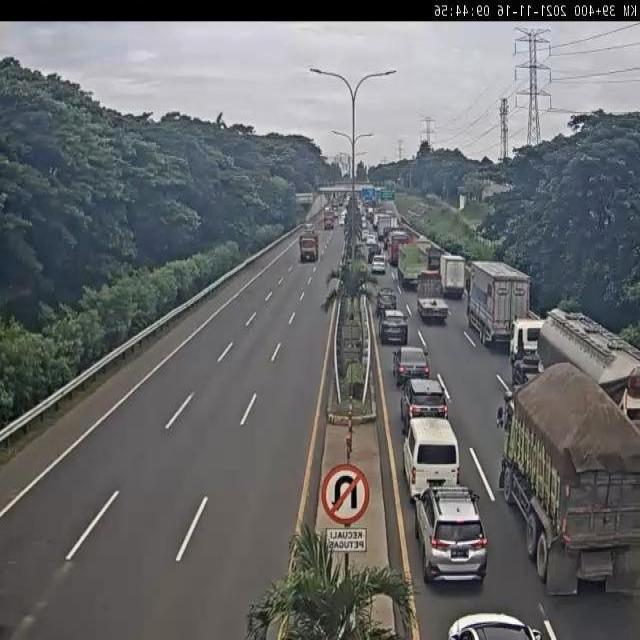Car: (413, 486, 488, 586), (399, 376, 450, 424), (392, 348, 431, 381), (379, 308, 408, 344), (377, 286, 397, 310), (371, 254, 386, 272), (365, 236, 376, 244)
Truck: (496, 363, 640, 596), (507, 308, 640, 389), (465, 260, 530, 342), (418, 271, 448, 320), (397, 242, 428, 282), (440, 253, 465, 295), (385, 230, 409, 262), (296, 235, 320, 265), (373, 211, 392, 235), (322, 211, 335, 235)
Van: (402, 416, 460, 498)
